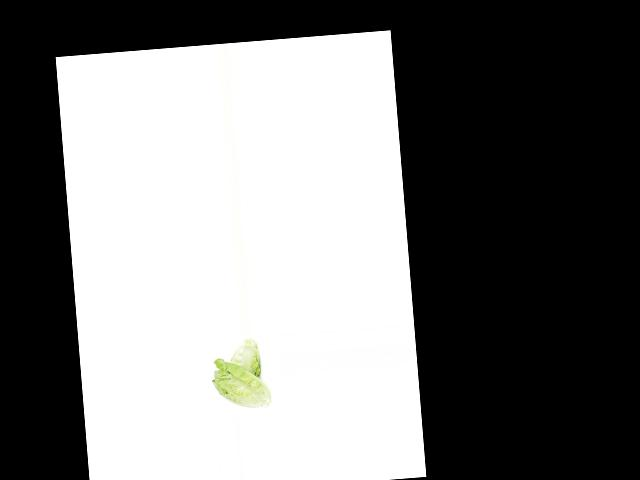lettuce: (226, 336, 264, 380)
